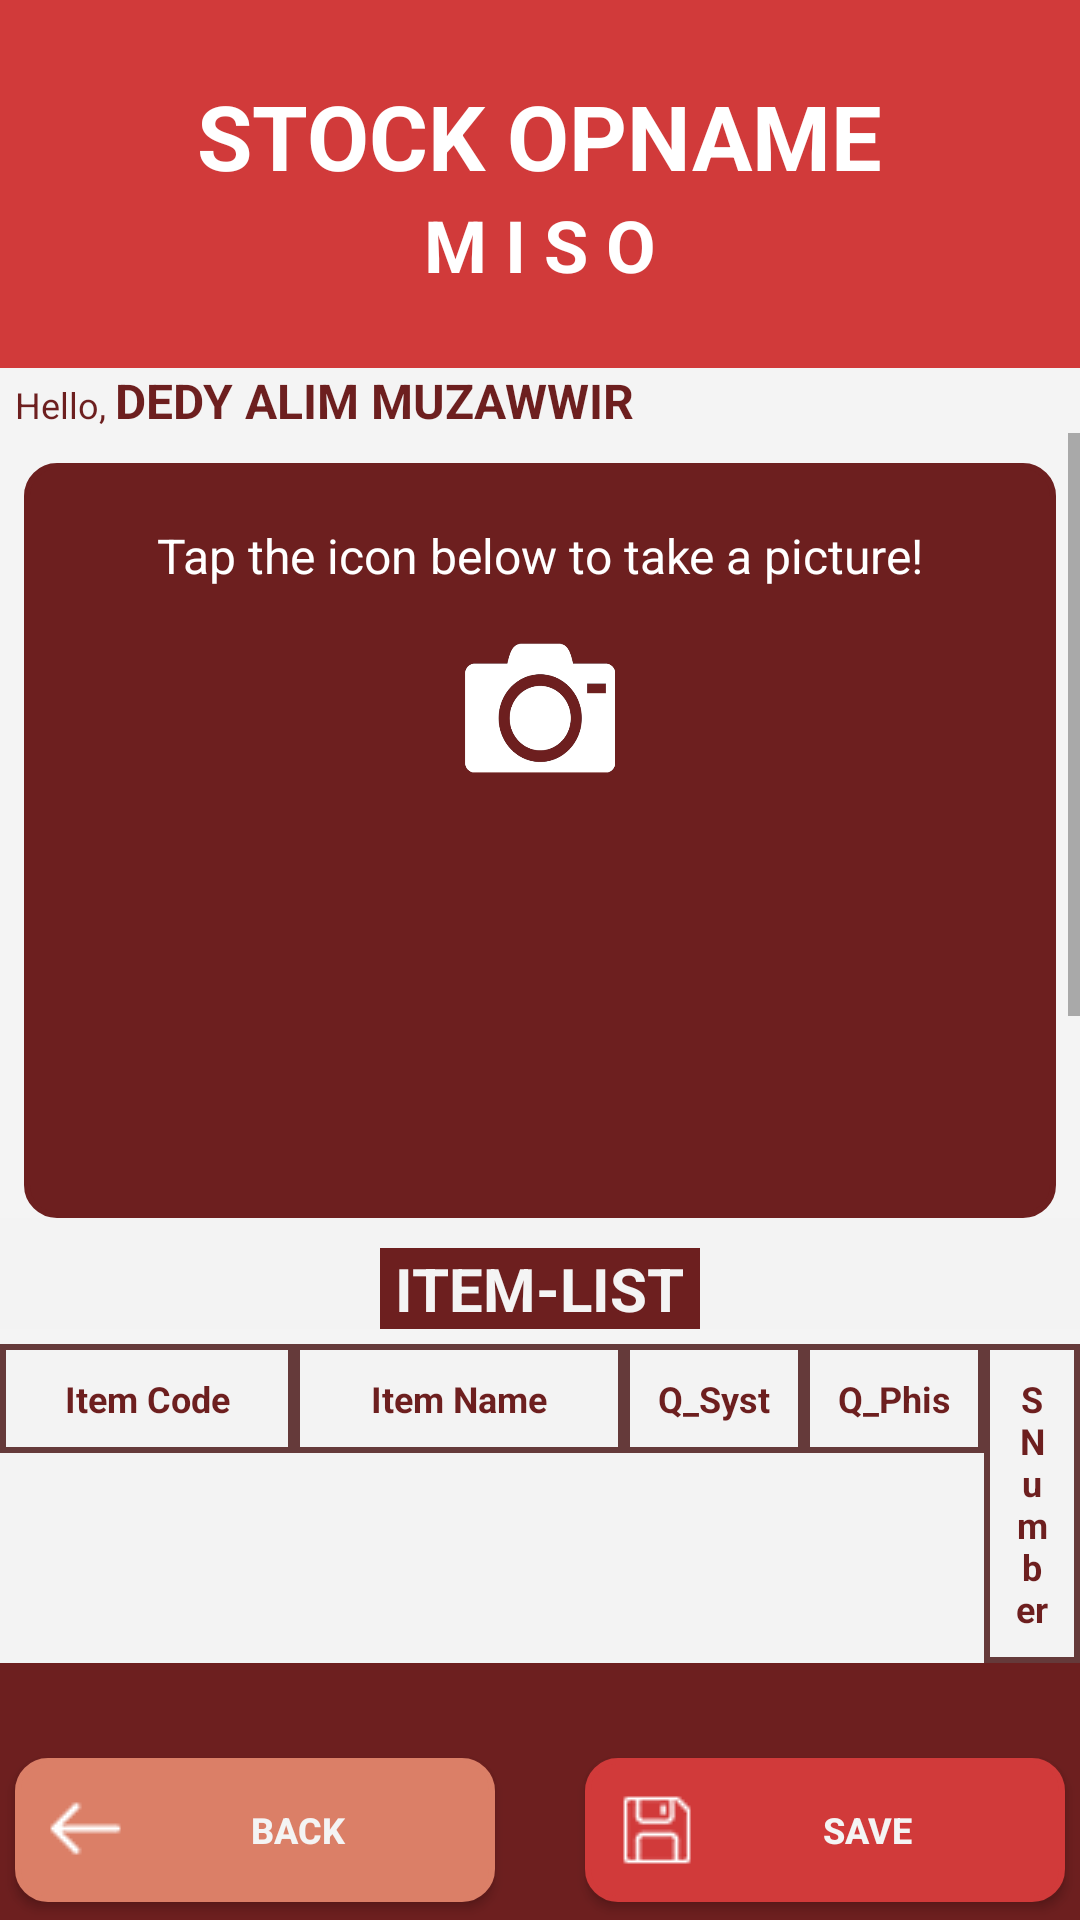

Named icons in this screenshot (1080 × 1920) and their bounding boxes, {"x1": x1, "y1": y1, "x2": x2, "y2": y2}:
kamera: {"x1": 465, "y1": 643, "x2": 615, "y2": 773}
